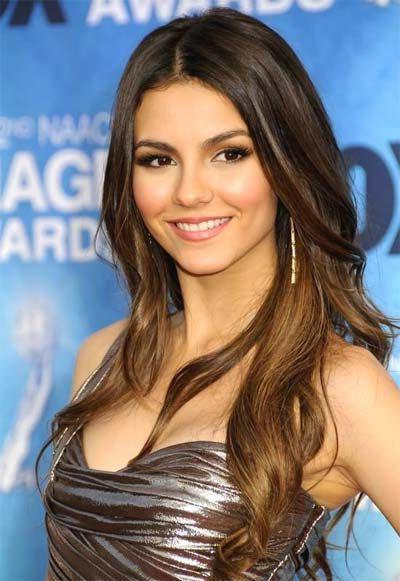Sober: (132, 99, 269, 273)
